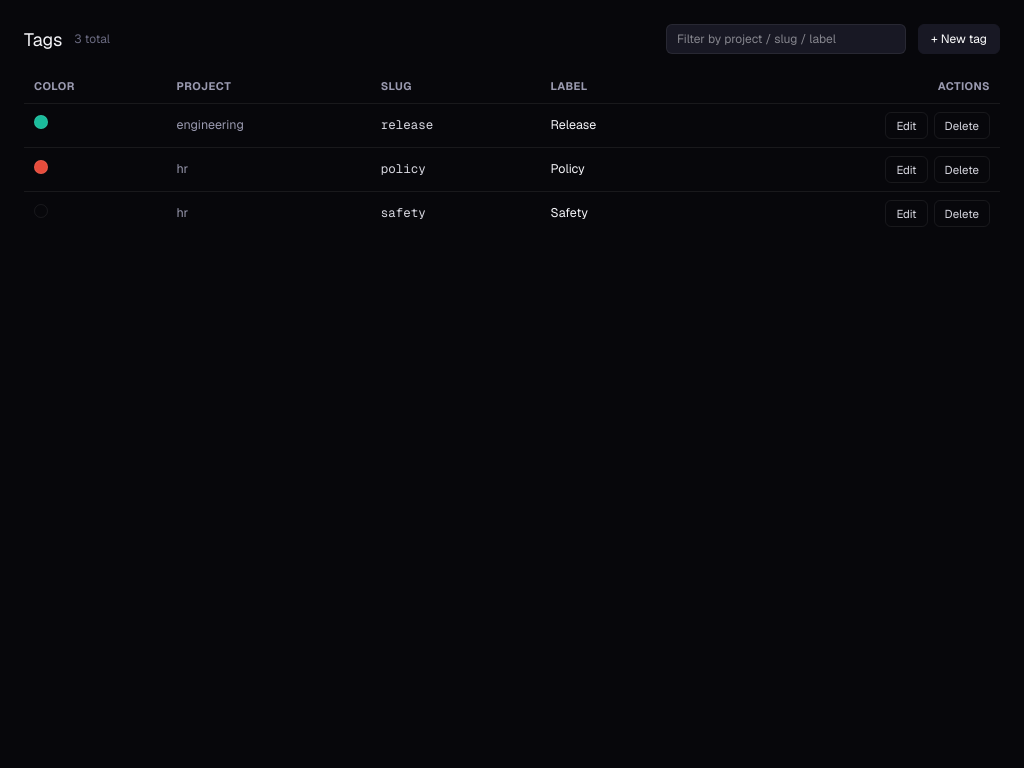
Scenario: TagsList › clicking Edit on a row opens the dialog in edit mode prefilled
Expected: the row with test id "admin-tag-row-2" is shown, [24, 147, 1000, 192]
Click the button with test id "admin-tag-row-2-edit" at (906, 169), box [885, 156, 928, 183]
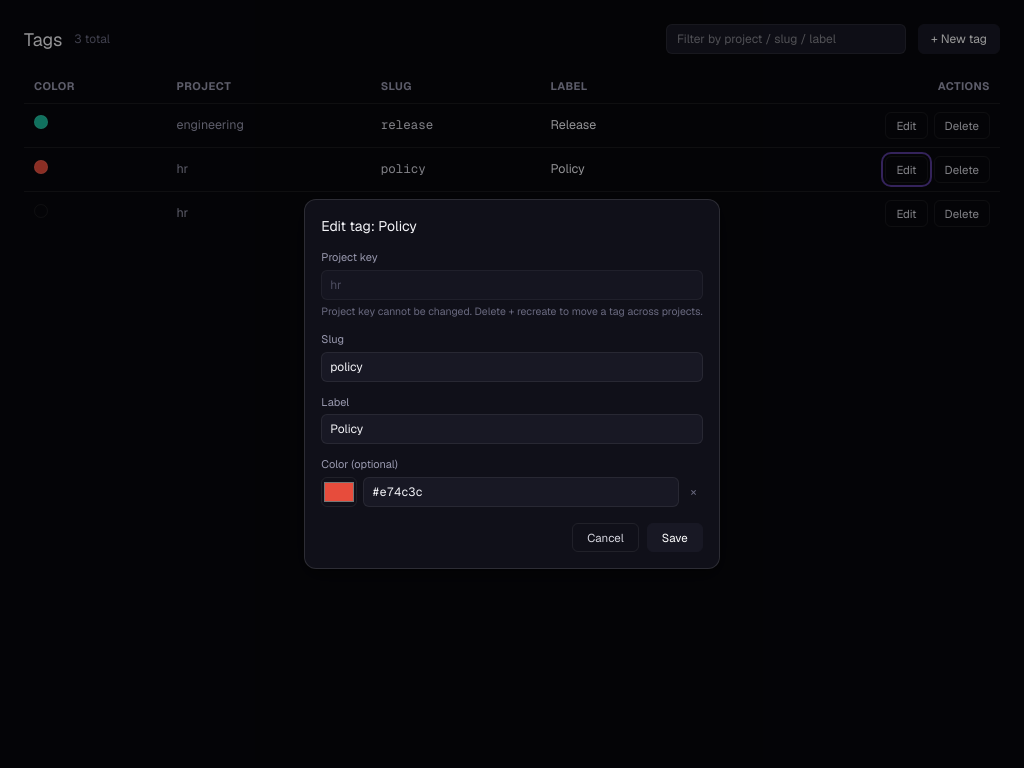
Expected: the field with test id "admin-tag-form-project" holds "hr", [321, 270, 703, 300]
Expected: the field with test id "admin-tag-form-slug" holds "policy", [321, 352, 703, 382]
Expected: the field with test id "admin-tag-form-label" holds "Policy", [321, 414, 703, 444]
